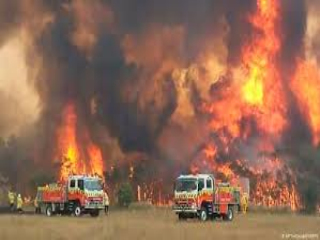fire: (234, 7, 320, 149), (54, 107, 106, 181)
smoke: (45, 16, 214, 156)
